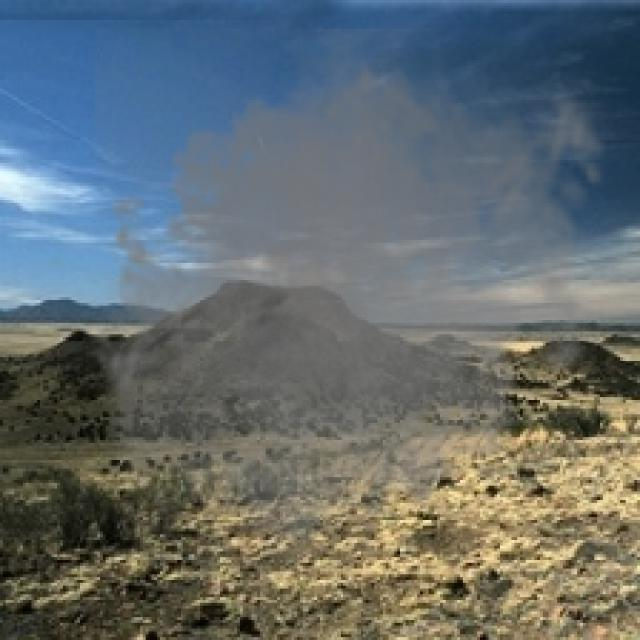smoke: (83, 28, 620, 583)
